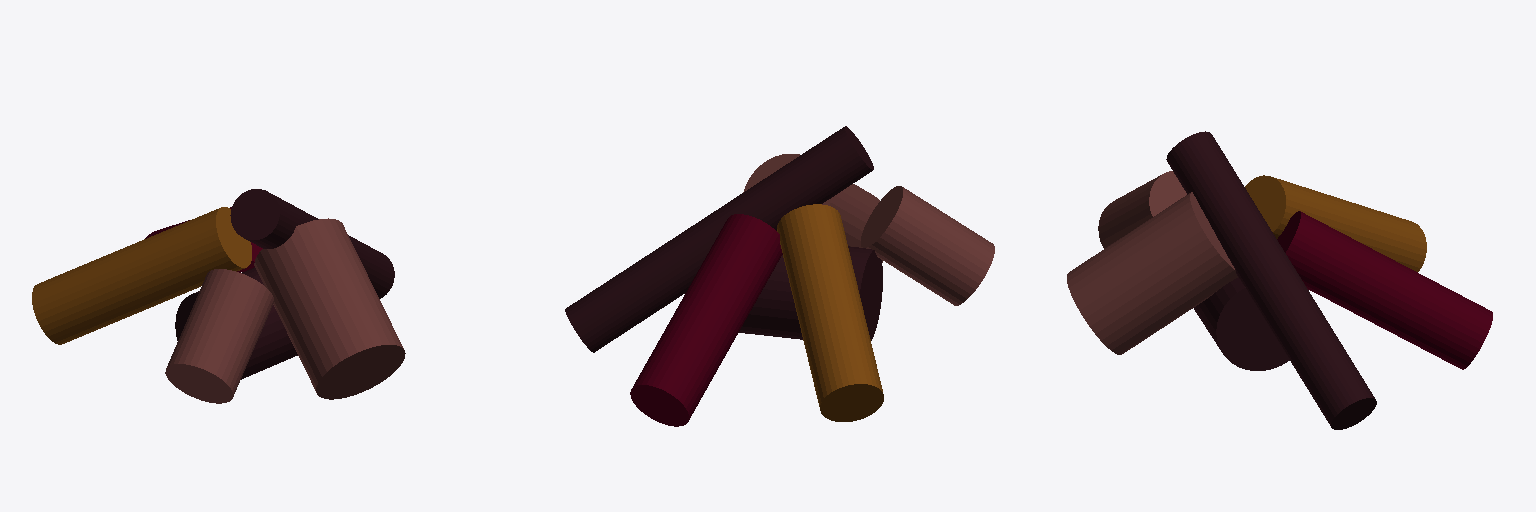
The picture shows the model from 3 angles: view 1: azimuth 30°, elevation 25°; view 2: azimuth 150°, elevation 25°; view 3: azimuth 270°, elevation 25°; orthographic projection.
Parts seen in each view (by area): view 1: Cylinder.002, Cylinder.004, Cylinder.005, Cylinder, Cylinder.003; view 2: Cylinder, Cylinder.001, Cylinder.004, Cylinder.005, Cylinder.003, Cylinder.002; view 3: Cylinder, Cylinder.002, Cylinder.001, Cylinder.004, Cylinder.003, Cylinder.005.
Boxes of the visible parts, <box> form: Cylinder.002: <box>254,218,405,399</box>; Cylinder.004: <box>32,207,251,344</box>; Cylinder.005: <box>165,269,273,403</box>; Cylinder: <box>230,189,394,298</box>; Cylinder.003: <box>175,267,297,379</box>; Cylinder: <box>565,126,873,352</box>; Cylinder.001: <box>630,214,782,426</box>; Cylinder.004: <box>777,204,883,421</box>; Cylinder.005: <box>861,186,994,305</box>; Cylinder.003: <box>739,246,882,340</box>; Cylinder.002: <box>743,154,882,262</box>; Cylinder: <box>1166,131,1376,429</box>; Cylinder.002: <box>1067,192,1237,354</box>; Cylinder.001: <box>1277,211,1492,369</box>; Cylinder.004: <box>1245,175,1426,271</box>; Cylinder.003: <box>1194,277,1289,370</box>; Cylinder.005: <box>1098,171,1186,248</box>.
Size of the model in its own units: 7.02 by 4.23 by 7.74.
1 materials, 1 textured.